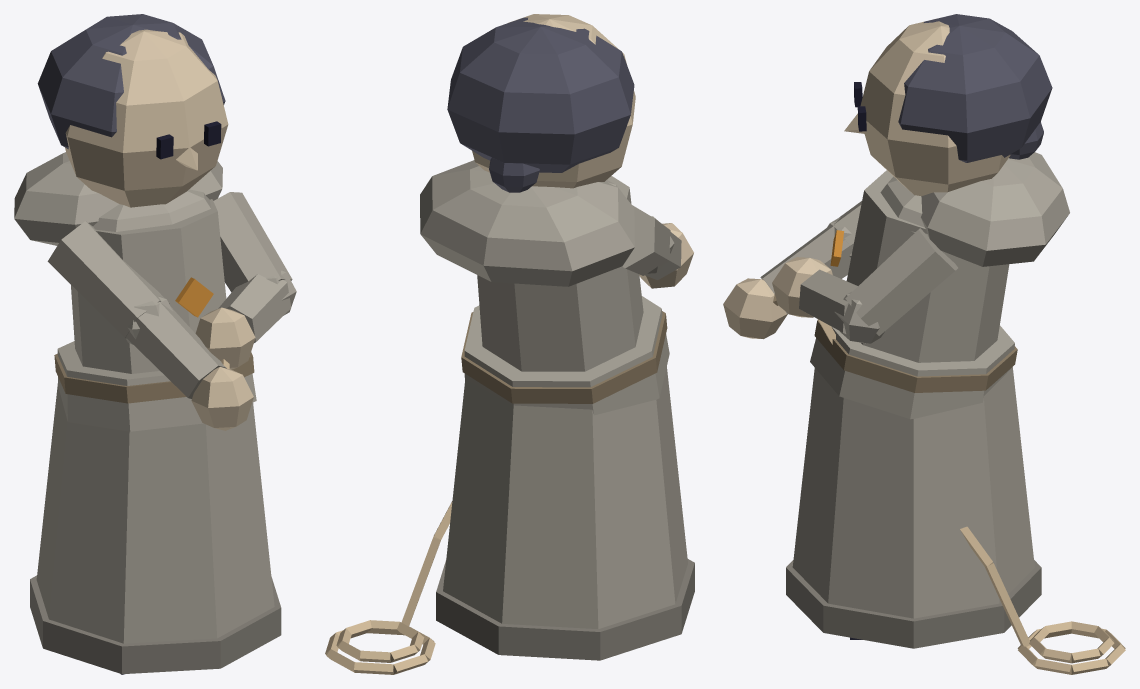
The model's file is keeper_pim.glb.
The picture shows the model from 3 angles, left to right: view 1: azimuth 30°, elevation 25°; view 2: azimuth 150°, elevation 25°; view 3: azimuth 270°, elevation 25°; orthographic projection. The views are drawn at different scales.
Visible parts, largest first — view 1: LegL, Torso, Head, ArmR, ArmL; view 2: LegL, Torso, Head, Stool, ArmR; view 3: LegL, Torso, Head, ArmL, ArmR, Stool.
Boxes of the visible parts, left/top/right/bottom form: LegL: left=30, top=383, right=281, bottom=674; Torso: left=14, top=152, right=256, bottom=431; Head: left=37, top=14, right=228, bottom=207; ArmR: left=47, top=221, right=253, bottom=430; ArmL: left=195, top=192, right=296, bottom=369; LegL: left=436, top=366, right=694, bottom=660; Torso: left=420, top=160, right=669, bottom=415; Head: left=447, top=14, right=635, bottom=192; Stool: left=325, top=501, right=452, bottom=674; ArmR: left=622, top=205, right=693, bottom=288; LegL: left=786, top=367, right=1041, bottom=648; Torso: left=810, top=152, right=1069, bottom=419; Head: left=844, top=14, right=1052, bottom=196; ArmL: left=772, top=228, right=957, bottom=343; ArmR: left=723, top=201, right=861, bottom=339; Stool: left=773, top=294, right=1125, bottom=674.
Size of the model in its own units: 0.7682 by 1.68 by 1.05.
